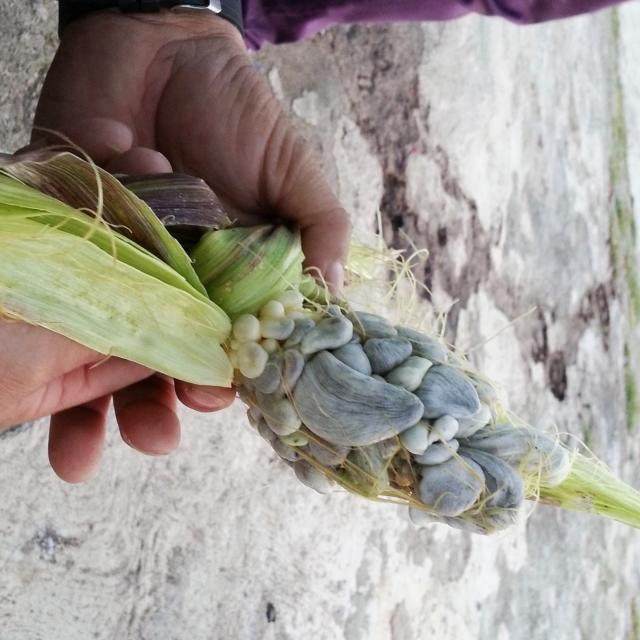Leaf_Scald: (202, 237, 604, 582)
